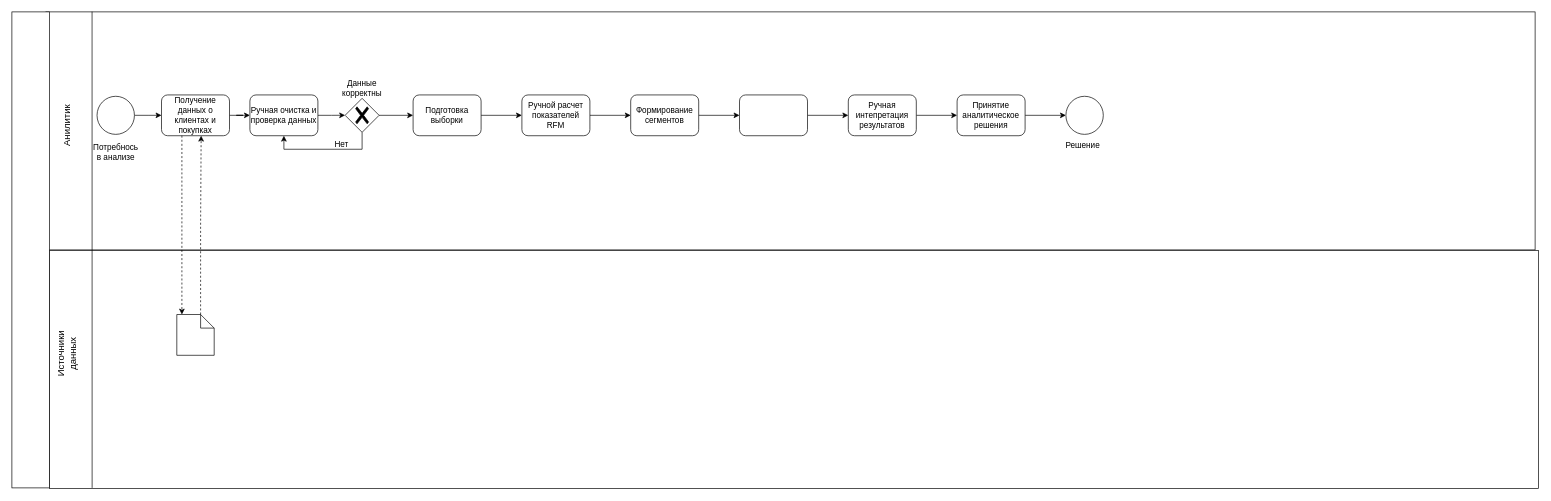
The diagram is 1551 pixels wide and 501 high, and some of its shapes have lost their labels. The shapes that lost their labels are listed below. From the top down, each one's centre as x and y in pixels, then its label:
point 773,115: Построение отчетов и диаграмм
point 30,249: Аеализ клиентской базы
point 195,334: Файлы, БД Внешние системы
